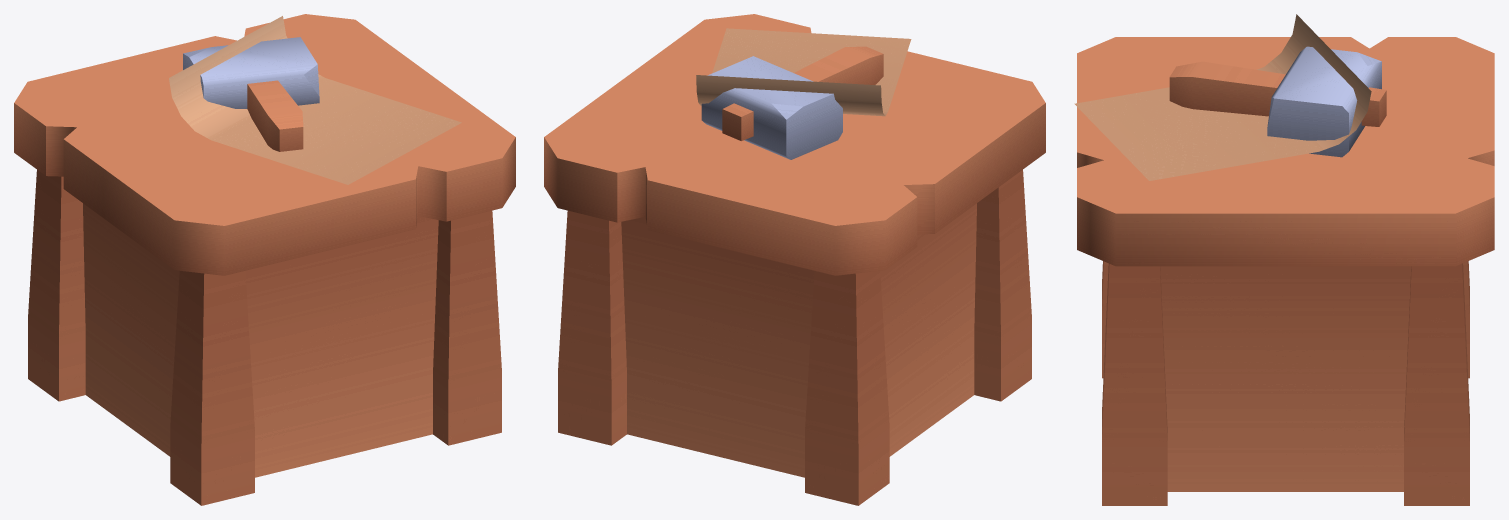
File: workbench.glb
The picture shows the model from 3 angles, left to right: view 1: azimuth 30°, elevation 25°; view 2: azimuth 150°, elevation 25°; view 3: azimuth 270°, elevation 25°; orthographic projection. The views are drawn at different scales.
Parts seen in each view (by area): view 1: workbench, workbench.002, workbench.001; view 2: workbench, workbench.001, workbench.002; view 3: workbench, workbench.002, workbench.001.
Part boxes in pixels (bbox=[...]): workbench: bbox=[14, 14, 515, 505]; workbench.002: bbox=[169, 16, 461, 184]; workbench.001: bbox=[183, 37, 319, 151]; workbench: bbox=[544, 14, 1045, 505]; workbench.001: bbox=[701, 46, 883, 159]; workbench.002: bbox=[696, 28, 911, 116]; workbench: bbox=[1077, 37, 1494, 505]; workbench.002: bbox=[1074, 14, 1371, 180]; workbench.001: bbox=[1169, 46, 1386, 157].
Bounding box in the file's own units: 1.49 × 1.44 × 1.5.
Materials: 1 (1 with a texture image).
